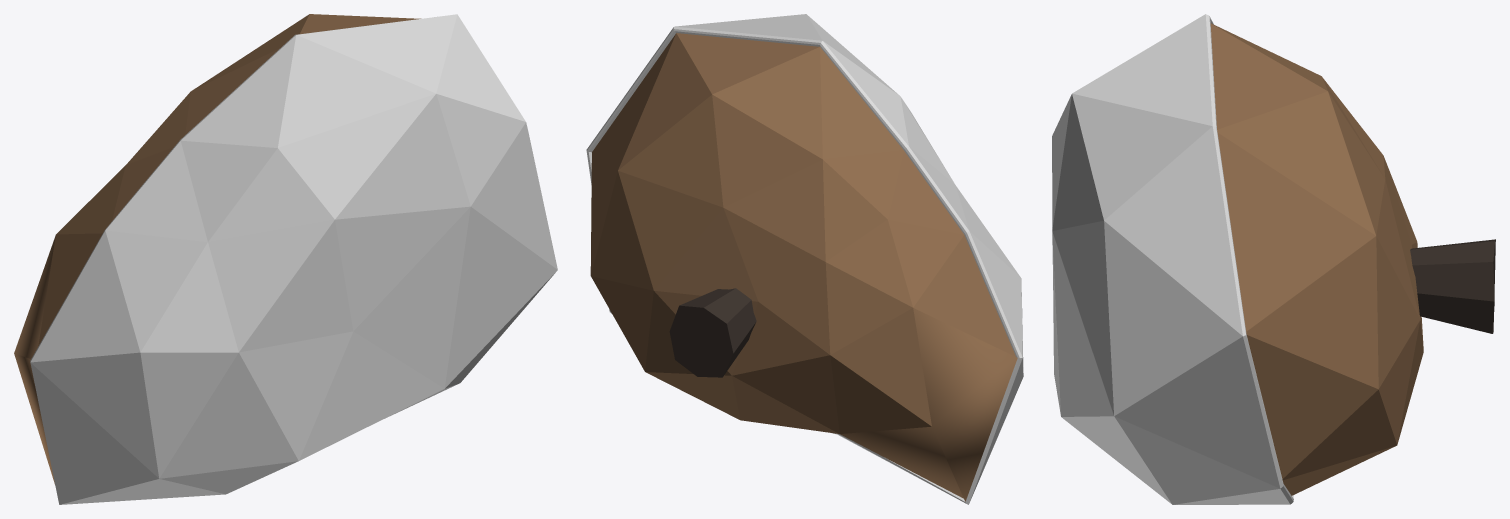
The model's file is bush2.fbx.
3 views of the same model, side by side, from view 1: azimuth 30°, elevation 25°; view 2: azimuth 150°, elevation 25°; view 3: azimuth 270°, elevation 25° (orthographic). The views are drawn at different scales.
Visible parts, largest first — view 1: Laub-2.001; view 2: Laub-2.001; view 3: Laub-2.001.
Boxes of the visible parts, left/top/right/bottom form: Laub-2.001: left=14, top=14, right=557, bottom=504; Laub-2.001: left=586, top=14, right=1023, bottom=504; Laub-2.001: left=1052, top=14, right=1495, bottom=504.
Bounding box in the file's own units: 492 × 425 × 347.
